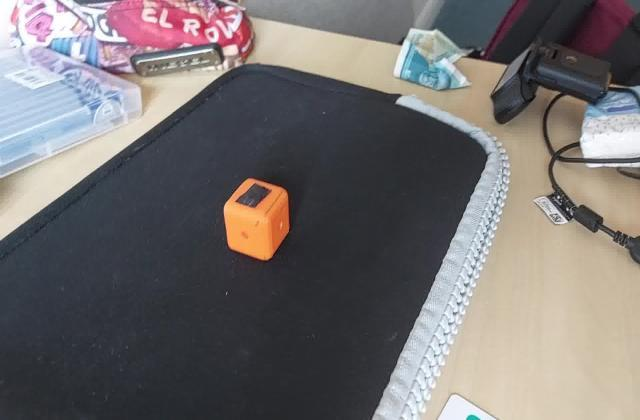black: (239, 184, 269, 208)
cube: (221, 176, 292, 262)
